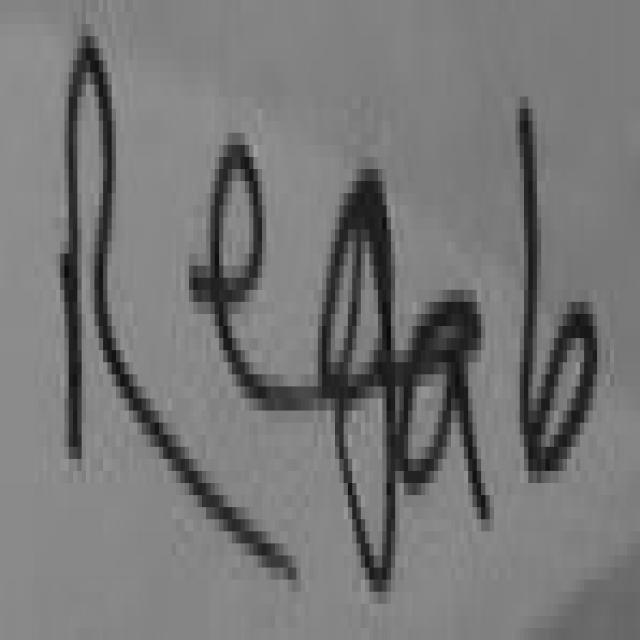R: (64, 36, 296, 574)
a: (399, 302, 494, 519)
b: (524, 109, 601, 483)
e: (193, 145, 318, 411)
g: (322, 169, 399, 592)
